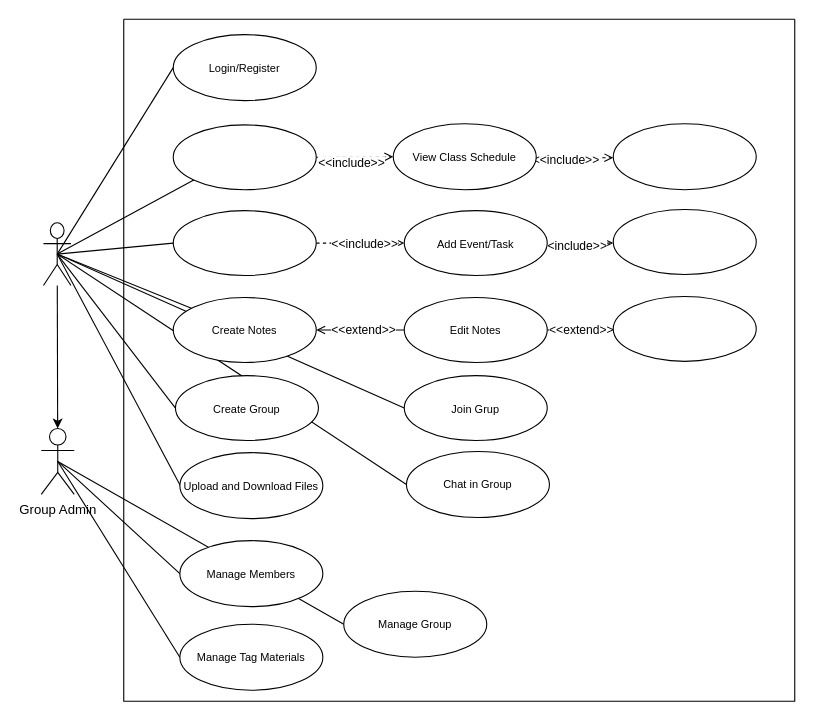
Some shapes in this 814 by 721 pixel diagram are drawn without their labels. Each missing label, with the centre of its shape:
"Create Schedule" goes at (244,243).
"Organize Notes" goes at (684,328).
"Set Smart Notifications" goes at (684,241).
"User" goes at (56,253).
"View Dashboard Home" goes at (244,157).
"View Upcoming Tasks" goes at (684,156).
